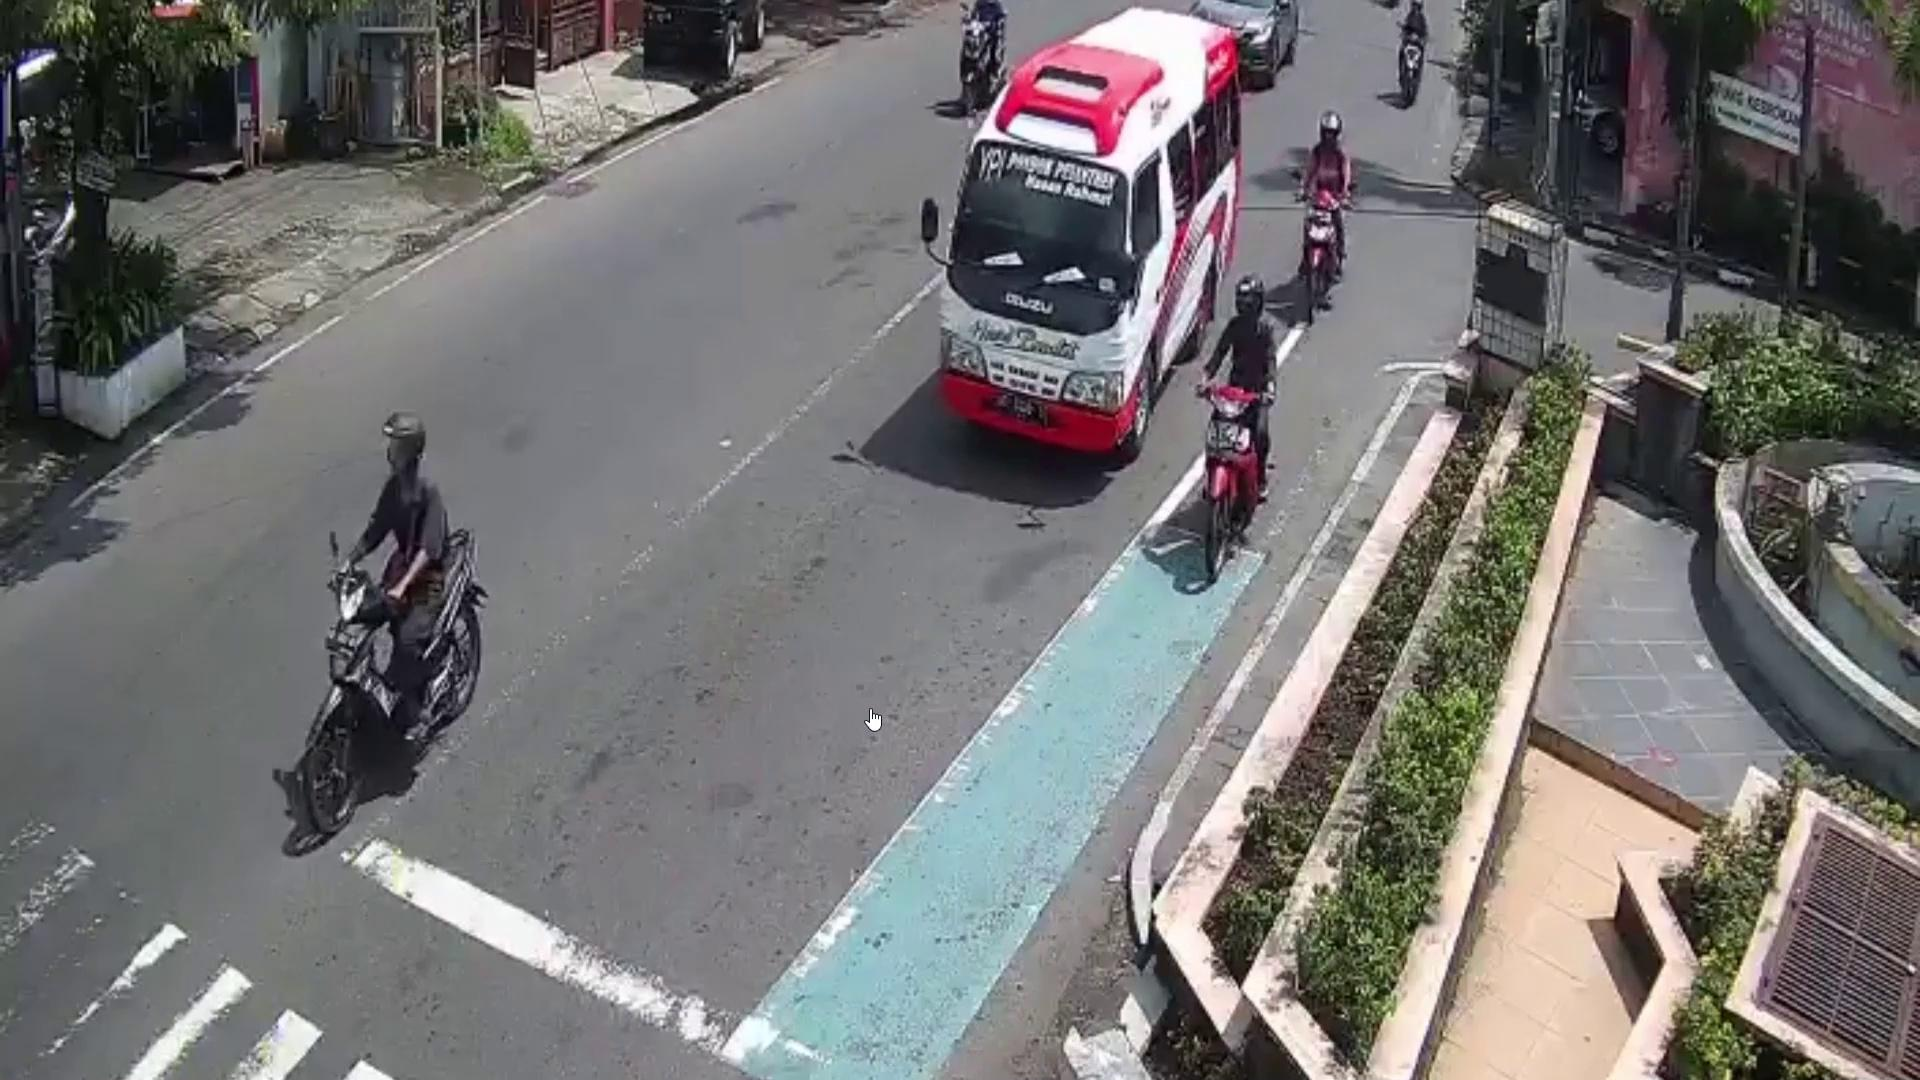bus: (932, 7, 1238, 465)
car: (1184, 0, 1309, 80)
motorbike: (306, 524, 485, 835), (1197, 380, 1269, 583), (1298, 175, 1349, 311), (959, 15, 1009, 119), (1399, 26, 1432, 108)
